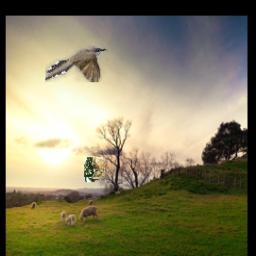Cuckoo: (45, 47, 108, 83)
Woodpecker: (84, 157, 105, 182)
